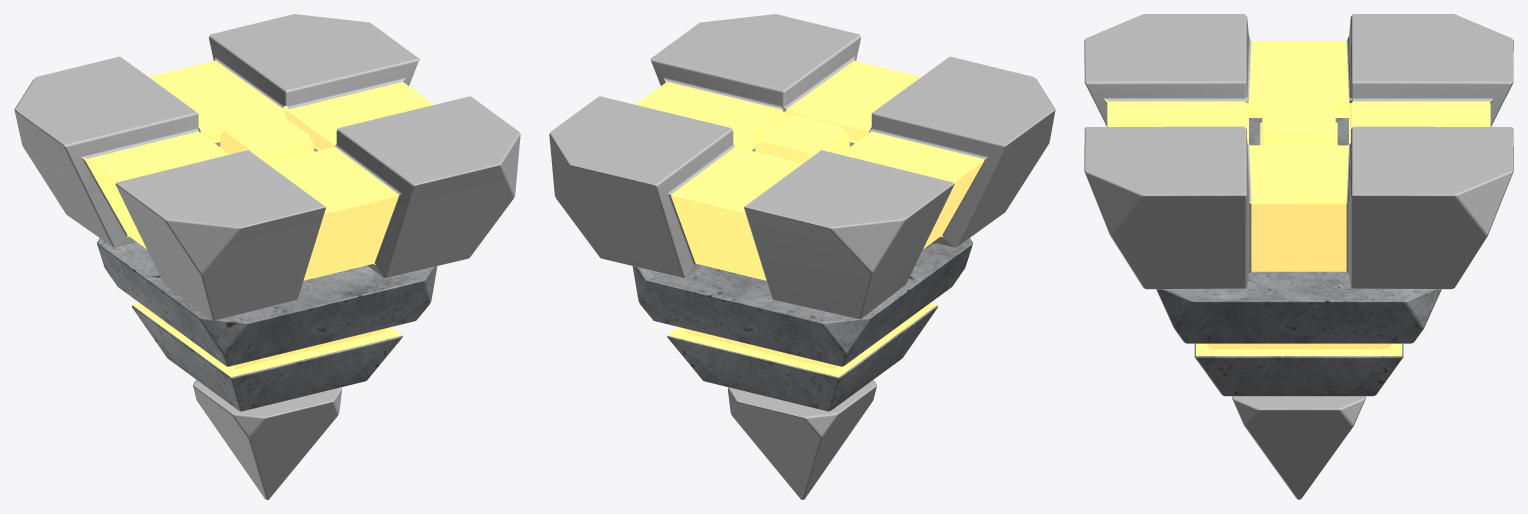
3 views of the same model, side by side, from view 1: azimuth 30°, elevation 25°; view 2: azimuth 150°, elevation 25°; view 3: azimuth 270°, elevation 25° (orthographic). The views are drawn at different scales.
Visible parts, largest first — view 1: Inverted Pyramid; view 2: Inverted Pyramid; view 3: Inverted Pyramid.
Part boxes in pixels (bbox=[...]): Inverted Pyramid: bbox=[14, 14, 520, 499]; Inverted Pyramid: bbox=[549, 14, 1055, 499]; Inverted Pyramid: bbox=[1084, 14, 1513, 499].
Bounding box in the file's own units: 2 × 2 × 2.03.
